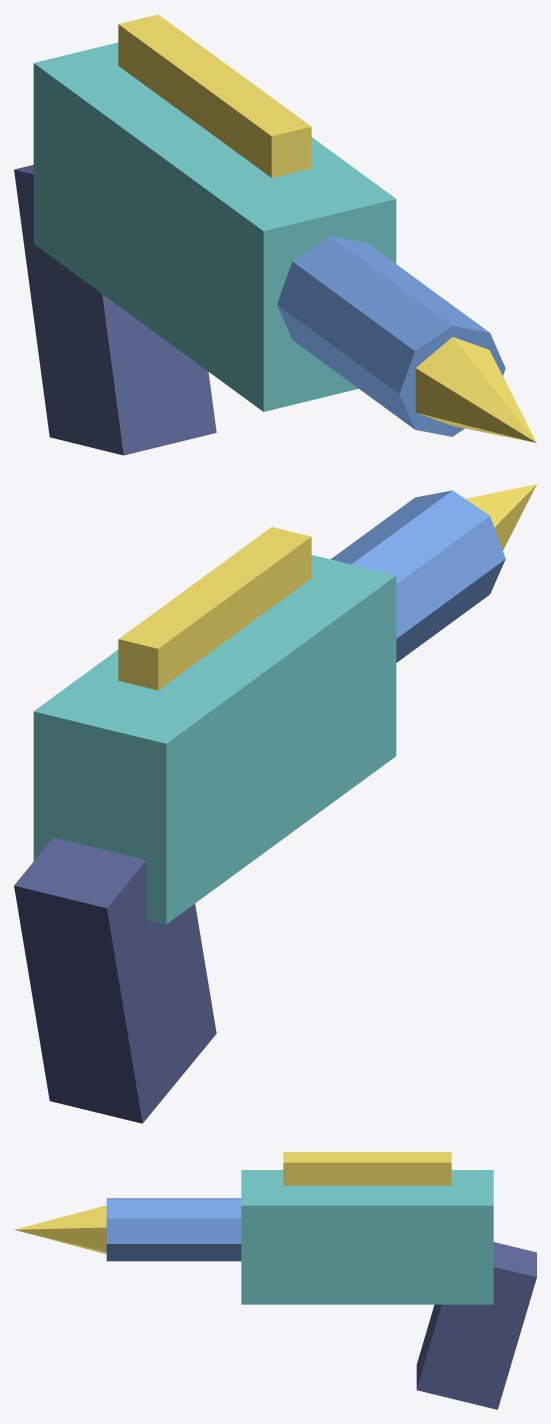
Rendered from EelCaster.fbx.
3 views of the same model, one above another, from view 1: azimuth 30°, elevation 25°; view 2: azimuth 150°, elevation 25°; view 3: azimuth 270°, elevation 25° (orthographic). The views are drawn at different scales.
Parts seen in each view (by area): view 1: Body; view 2: Body; view 3: Body.
Boxes of the visible parts, bbox=[...] form: Body: bbox=[14, 14, 536, 455]; Body: bbox=[14, 484, 536, 1123]; Body: bbox=[14, 1152, 536, 1409].
Bounding box in the file's own units: 0.1 × 0.3149 × 0.6216.
